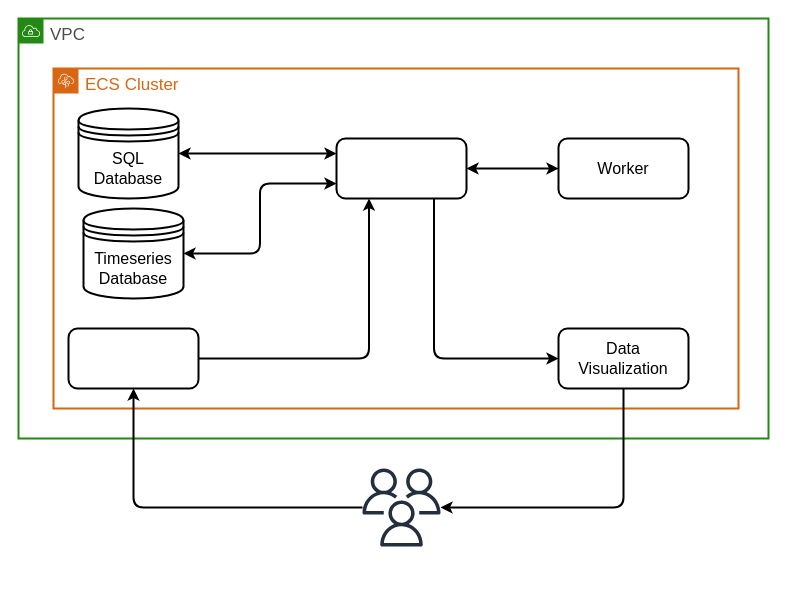
Some shapes in this 786 by 589 pixel diagram are drawn without their labels. Here are the shapes that lost their labels. From the top down, the centre of each, then its label:
the point at 401,168: Backend API
the point at 133,358: Data Intake
the point at 401,507: Clients
